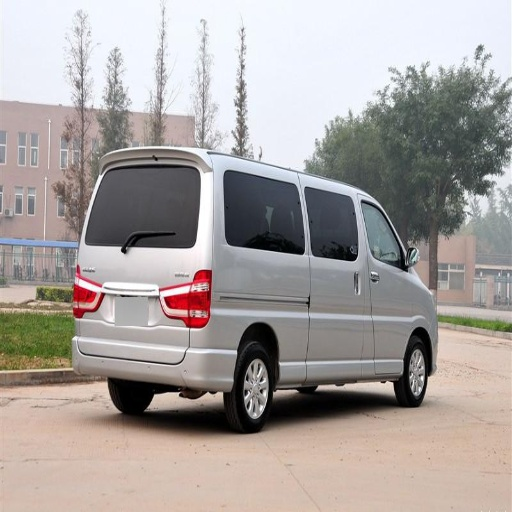back_bumper: (73, 317, 204, 384)
back_glass: (89, 166, 200, 247)
trunk: (81, 249, 348, 385)
